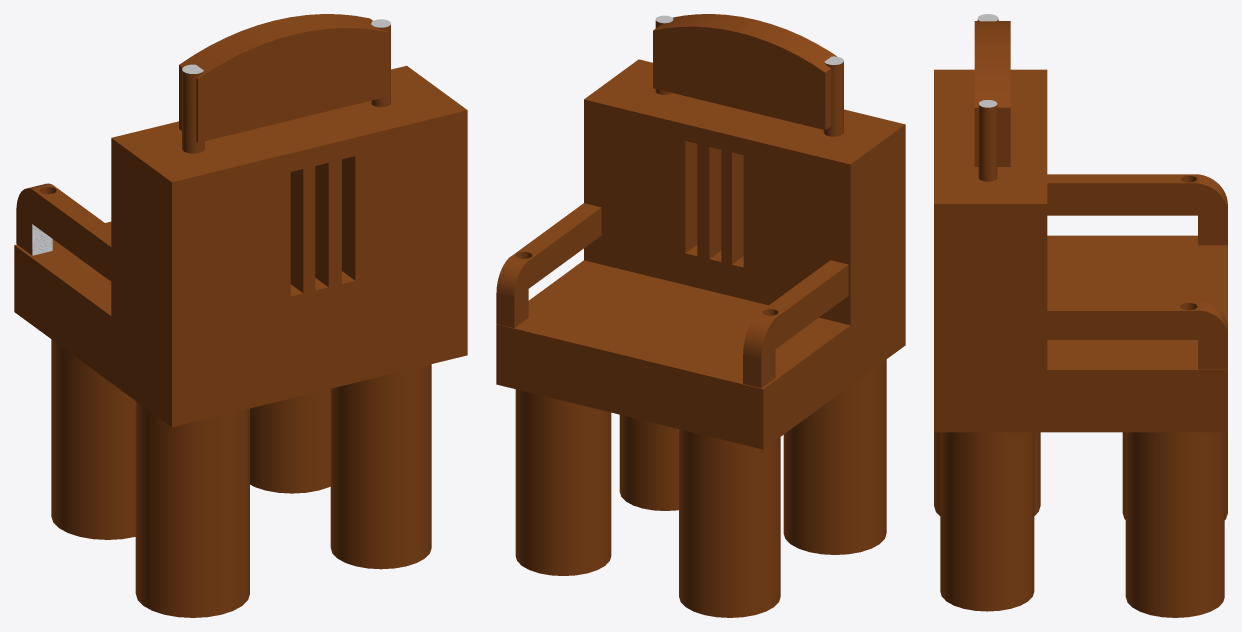
3 views of the same model, side by side, from view 1: azimuth 30°, elevation 25°; view 2: azimuth 150°, elevation 25°; view 3: azimuth 270°, elevation 25° (orthographic). The views are drawn at different scales.
Visible parts, largest first — view 1: SketchUp_ID52, SketchUp_ID46, SketchUp_ID113, SketchUp_ID40, SketchUp_ID22, SketchUp_ID16, SketchUp_ID125, SketchUp_ID34, SketchUp_ID28, SketchUp_ID173, SketchUp_ID179, SketchUp_ID185; view 2: SketchUp_ID52, SketchUp_ID22, SketchUp_ID16, SketchUp_ID113, SketchUp_ID46, SketchUp_ID125, SketchUp_ID137, SketchUp_ID40, SketchUp_ID2, SketchUp_ID34, SketchUp_ID10, SketchUp_ID28 (+3 smaller); view 3: SketchUp_ID52, SketchUp_ID16, SketchUp_ID40, SketchUp_ID125, SketchUp_ID137, SketchUp_ID113, SketchUp_ID10, SketchUp_ID28, SketchUp_ID34, SketchUp_ID2, SketchUp_ID99, SketchUp_ID46 (+1 smaller).
Boxes of the visible parts, x1=… form: SketchUp_ID52: x1=14, y1=65, x2=467, y2=427; SketchUp_ID46: x1=135, y1=401, x2=249, y2=617; SketchUp_ID113: x1=179, y1=14, x2=389, y2=153; SketchUp_ID40: x1=330, y1=364, x2=431, y2=569; SketchUp_ID22: x1=51, y1=339, x2=135, y2=539; SketchUp_ID16: x1=250, y1=389, x2=330, y2=493; SketchUp_ID125: x1=16, y1=183, x2=111, y2=281; SketchUp_ID34: x1=136, y1=126, x2=249, y2=173; SketchUp_ID28: x1=334, y1=82, x2=431, y2=124; SketchUp_ID173: x1=342, y1=156, x2=355, y2=283; SketchUp_ID179: x1=315, y1=163, x2=328, y2=290; SketchUp_ID185: x1=290, y1=169, x2=303, y2=296; SketchUp_ID52: x1=496, y1=59, x2=905, y2=449; SketchUp_ID22: x1=679, y1=429, x2=780, y2=617; SketchUp_ID16: x1=515, y1=389, x2=611, y2=575; SketchUp_ID113: x1=653, y1=14, x2=843, y2=136; SketchUp_ID46: x1=783, y1=359, x2=886, y2=554; SketchUp_ID125: x1=743, y1=260, x2=848, y2=388; SketchUp_ID137: x1=496, y1=203, x2=601, y2=327; SketchUp_ID40: x1=619, y1=414, x2=678, y2=510; SketchUp_ID2: x1=520, y1=295, x2=611, y2=335; SketchUp_ID34: x1=783, y1=111, x2=886, y2=153; SketchUp_ID10: x1=679, y1=335, x2=780, y2=377; SketchUp_ID28: x1=620, y1=72, x2=703, y2=110; SketchUp_ID52: x1=934, y1=69, x2=1227, y2=432; SketchUp_ID16: x1=1125, y1=432, x2=1224, y2=617; SketchUp_ID40: x1=940, y1=432, x2=1034, y2=611; SketchUp_ID125: x1=1047, y1=174, x2=1227, y2=245; SketchUp_ID137: x1=1047, y1=302, x2=1227, y2=369; SketchUp_ID113: x1=974, y1=19, x2=1010, y2=166; SketchUp_ID10: x1=1122, y1=243, x2=1227, y2=287; SketchUp_ID28: x1=940, y1=158, x2=1034, y2=197; SketchUp_ID34: x1=934, y1=70, x2=1040, y2=113; SketchUp_ID2: x1=1126, y1=340, x2=1197, y2=369; SketchUp_ID99: x1=978, y1=104, x2=997, y2=181; SketchUp_ID46: x1=934, y1=432, x2=1040, y2=515.
Size of the model in its own units: 0.4512 by 0.7891 by 0.4168.
